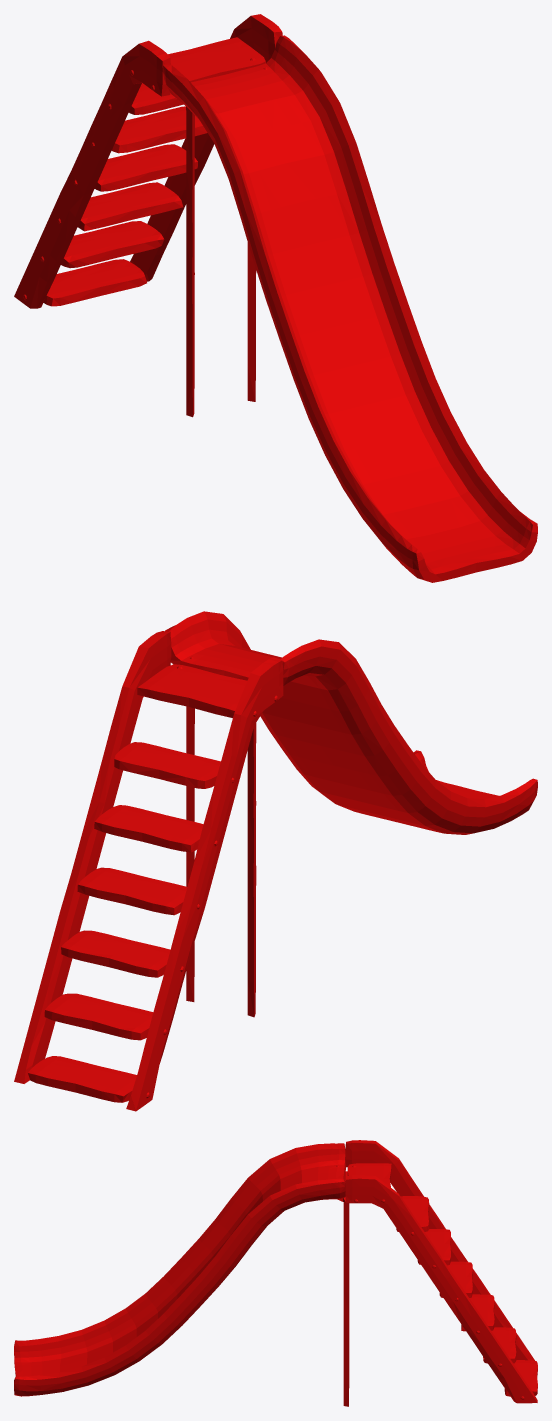
File: Slide.fbx
3 views of the same model, one above another, from view 1: azimuth 30°, elevation 25°; view 2: azimuth 150°, elevation 25°; view 3: azimuth 270°, elevation 25° (orthographic). The views are drawn at different scales.
Visible parts, largest first — view 1: Retopo_Slide; view 2: Retopo_Slide; view 3: Retopo_Slide.
Boxes of the visible parts, x1,y1,x2,y2 form: Retopo_Slide: (14, 14, 537, 582); Retopo_Slide: (14, 611, 537, 1111); Retopo_Slide: (14, 1140, 537, 1406).
Bounding box in the file's own units: 64.92 × 180 × 362.
